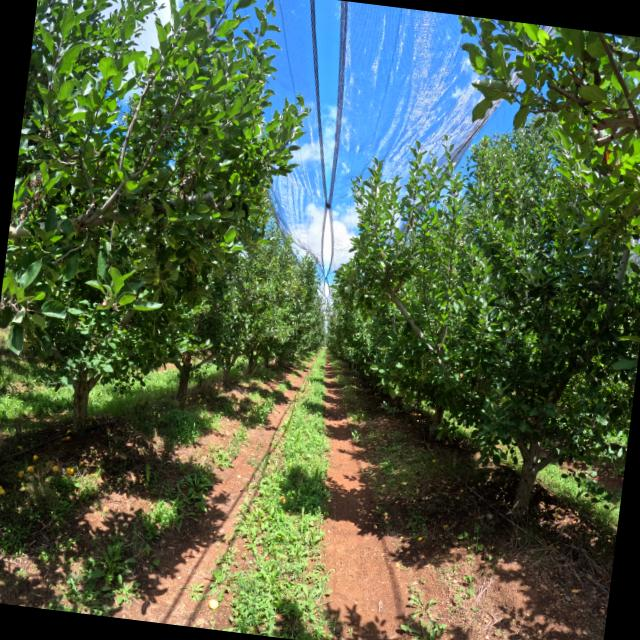-FireBlight-: (17, 172, 45, 227)
